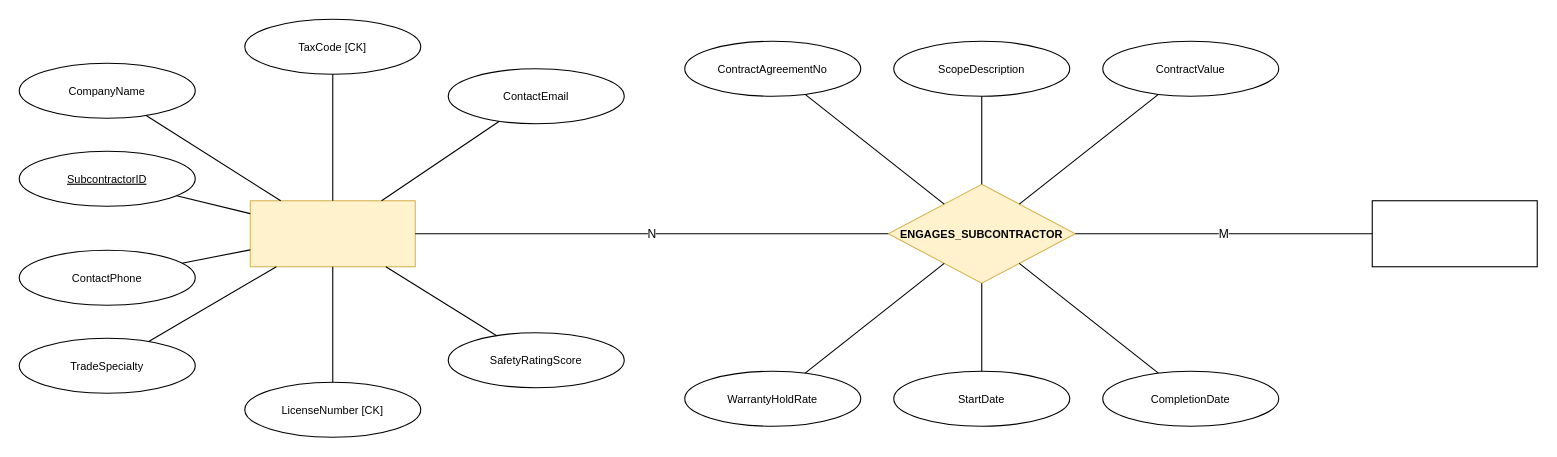
Image size: 1557x457. Some labels were removed from this diagram. Here are the shapes that lost their labels. From the top down, the box of each, then its label:
(249, 200, 415, 267): SUBCONTRACTOR
(1371, 200, 1537, 267): PROJECT (see Projects)
